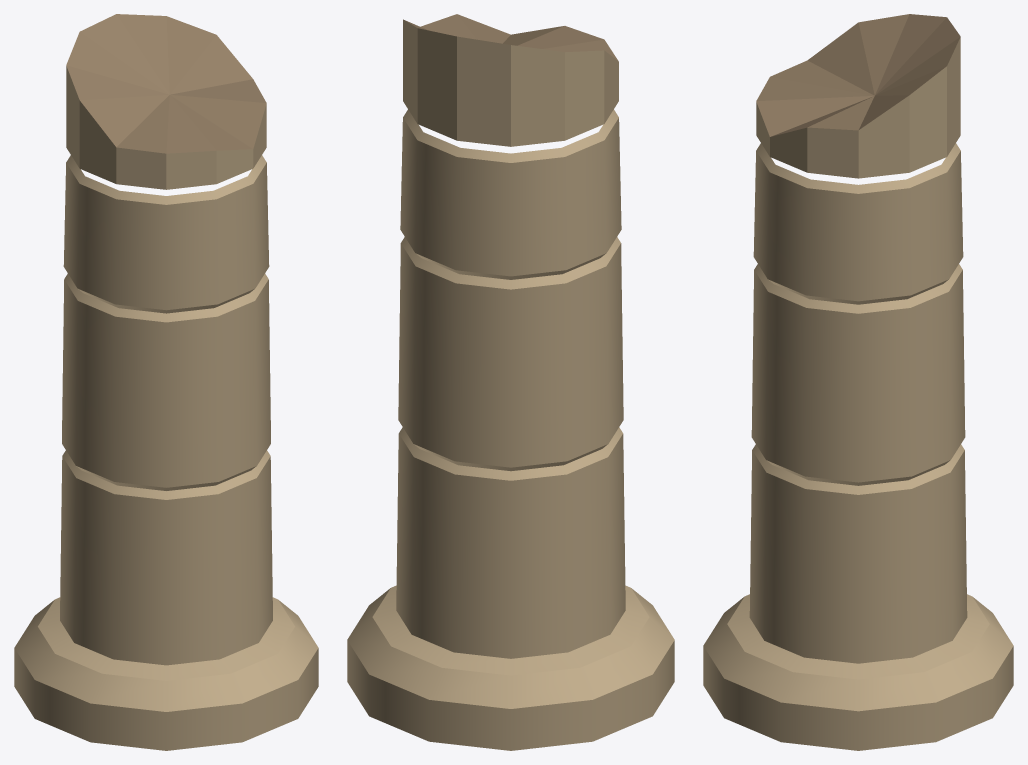
Rendered from column_broken.glb.
3 renders of one model, left to right at view 1: azimuth 30°, elevation 25°; view 2: azimuth 150°, elevation 25°; view 3: azimuth 270°, elevation 25°, orthographic. The views are drawn at different scales.
Parts seen in each view (by area): view 1: column_broken; view 2: column_broken; view 3: column_broken.
Part boxes in pixels (x1,y1,x2,y2): column_broken: (14, 14, 318, 750); column_broken: (347, 14, 674, 750); column_broken: (703, 14, 1013, 750).
Bounding box in the file's own units: 1.56 × 3.6 × 1.56.
